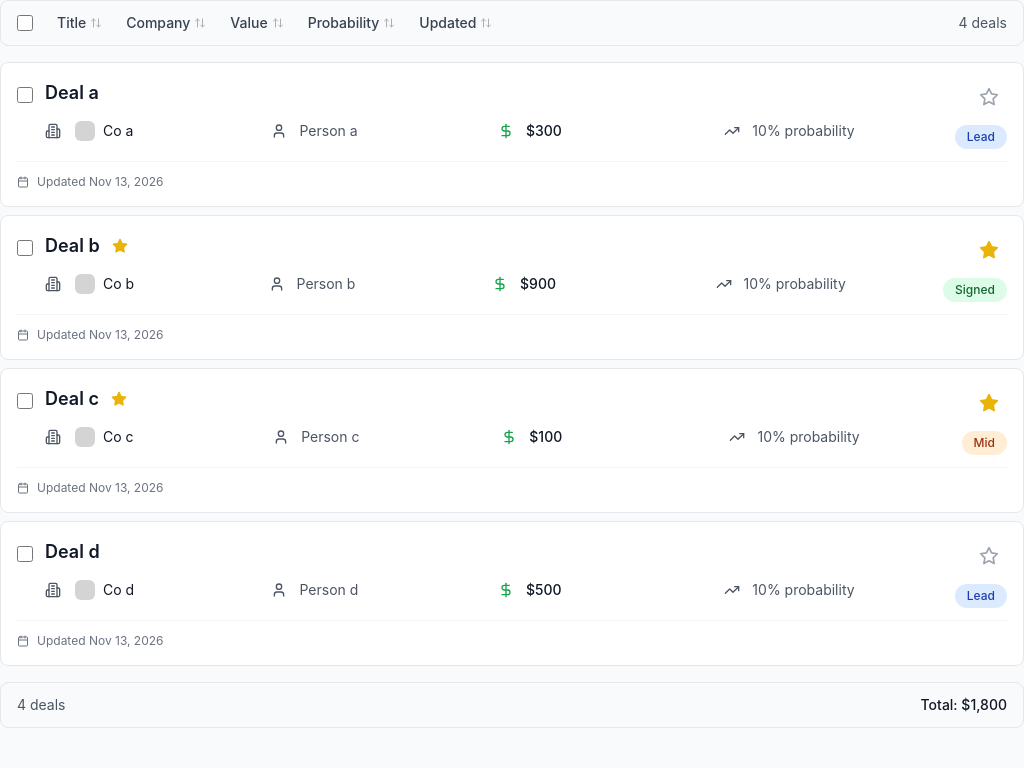
Test: bulk selection in the table view › the list view uses the same selection store and bar
Click the checkbox named "Select Deal c" at (25,401), box [17, 393, 33, 409]
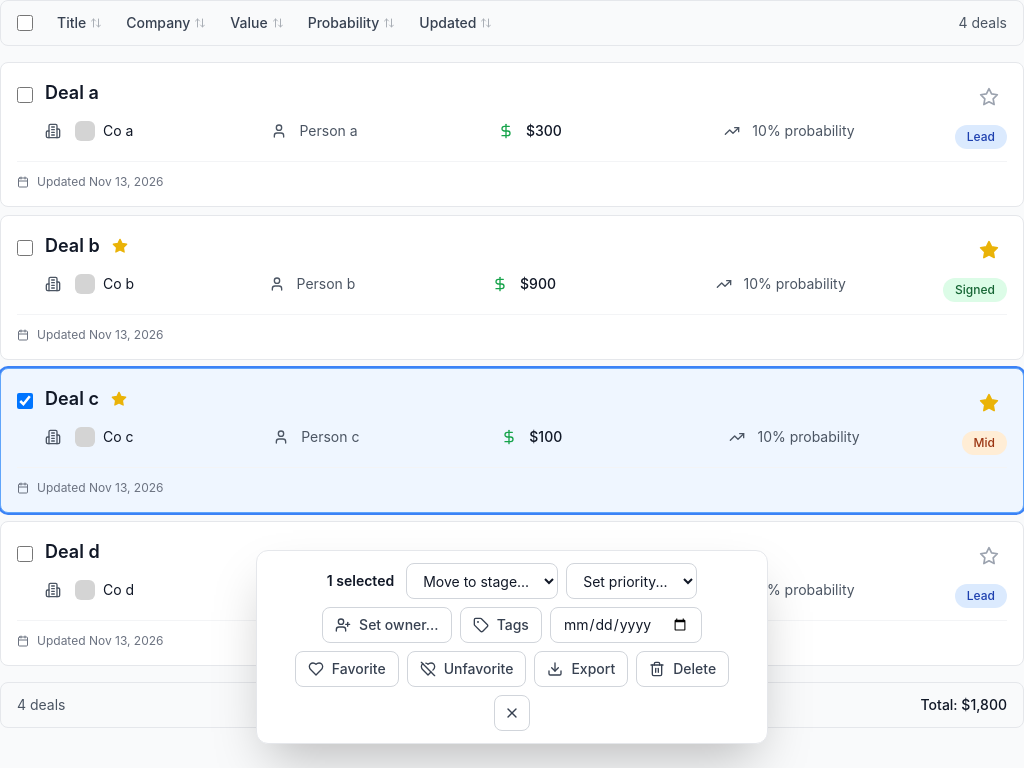
Check: the element named "Bulk actions" is shown, box [256, 550, 768, 744]
